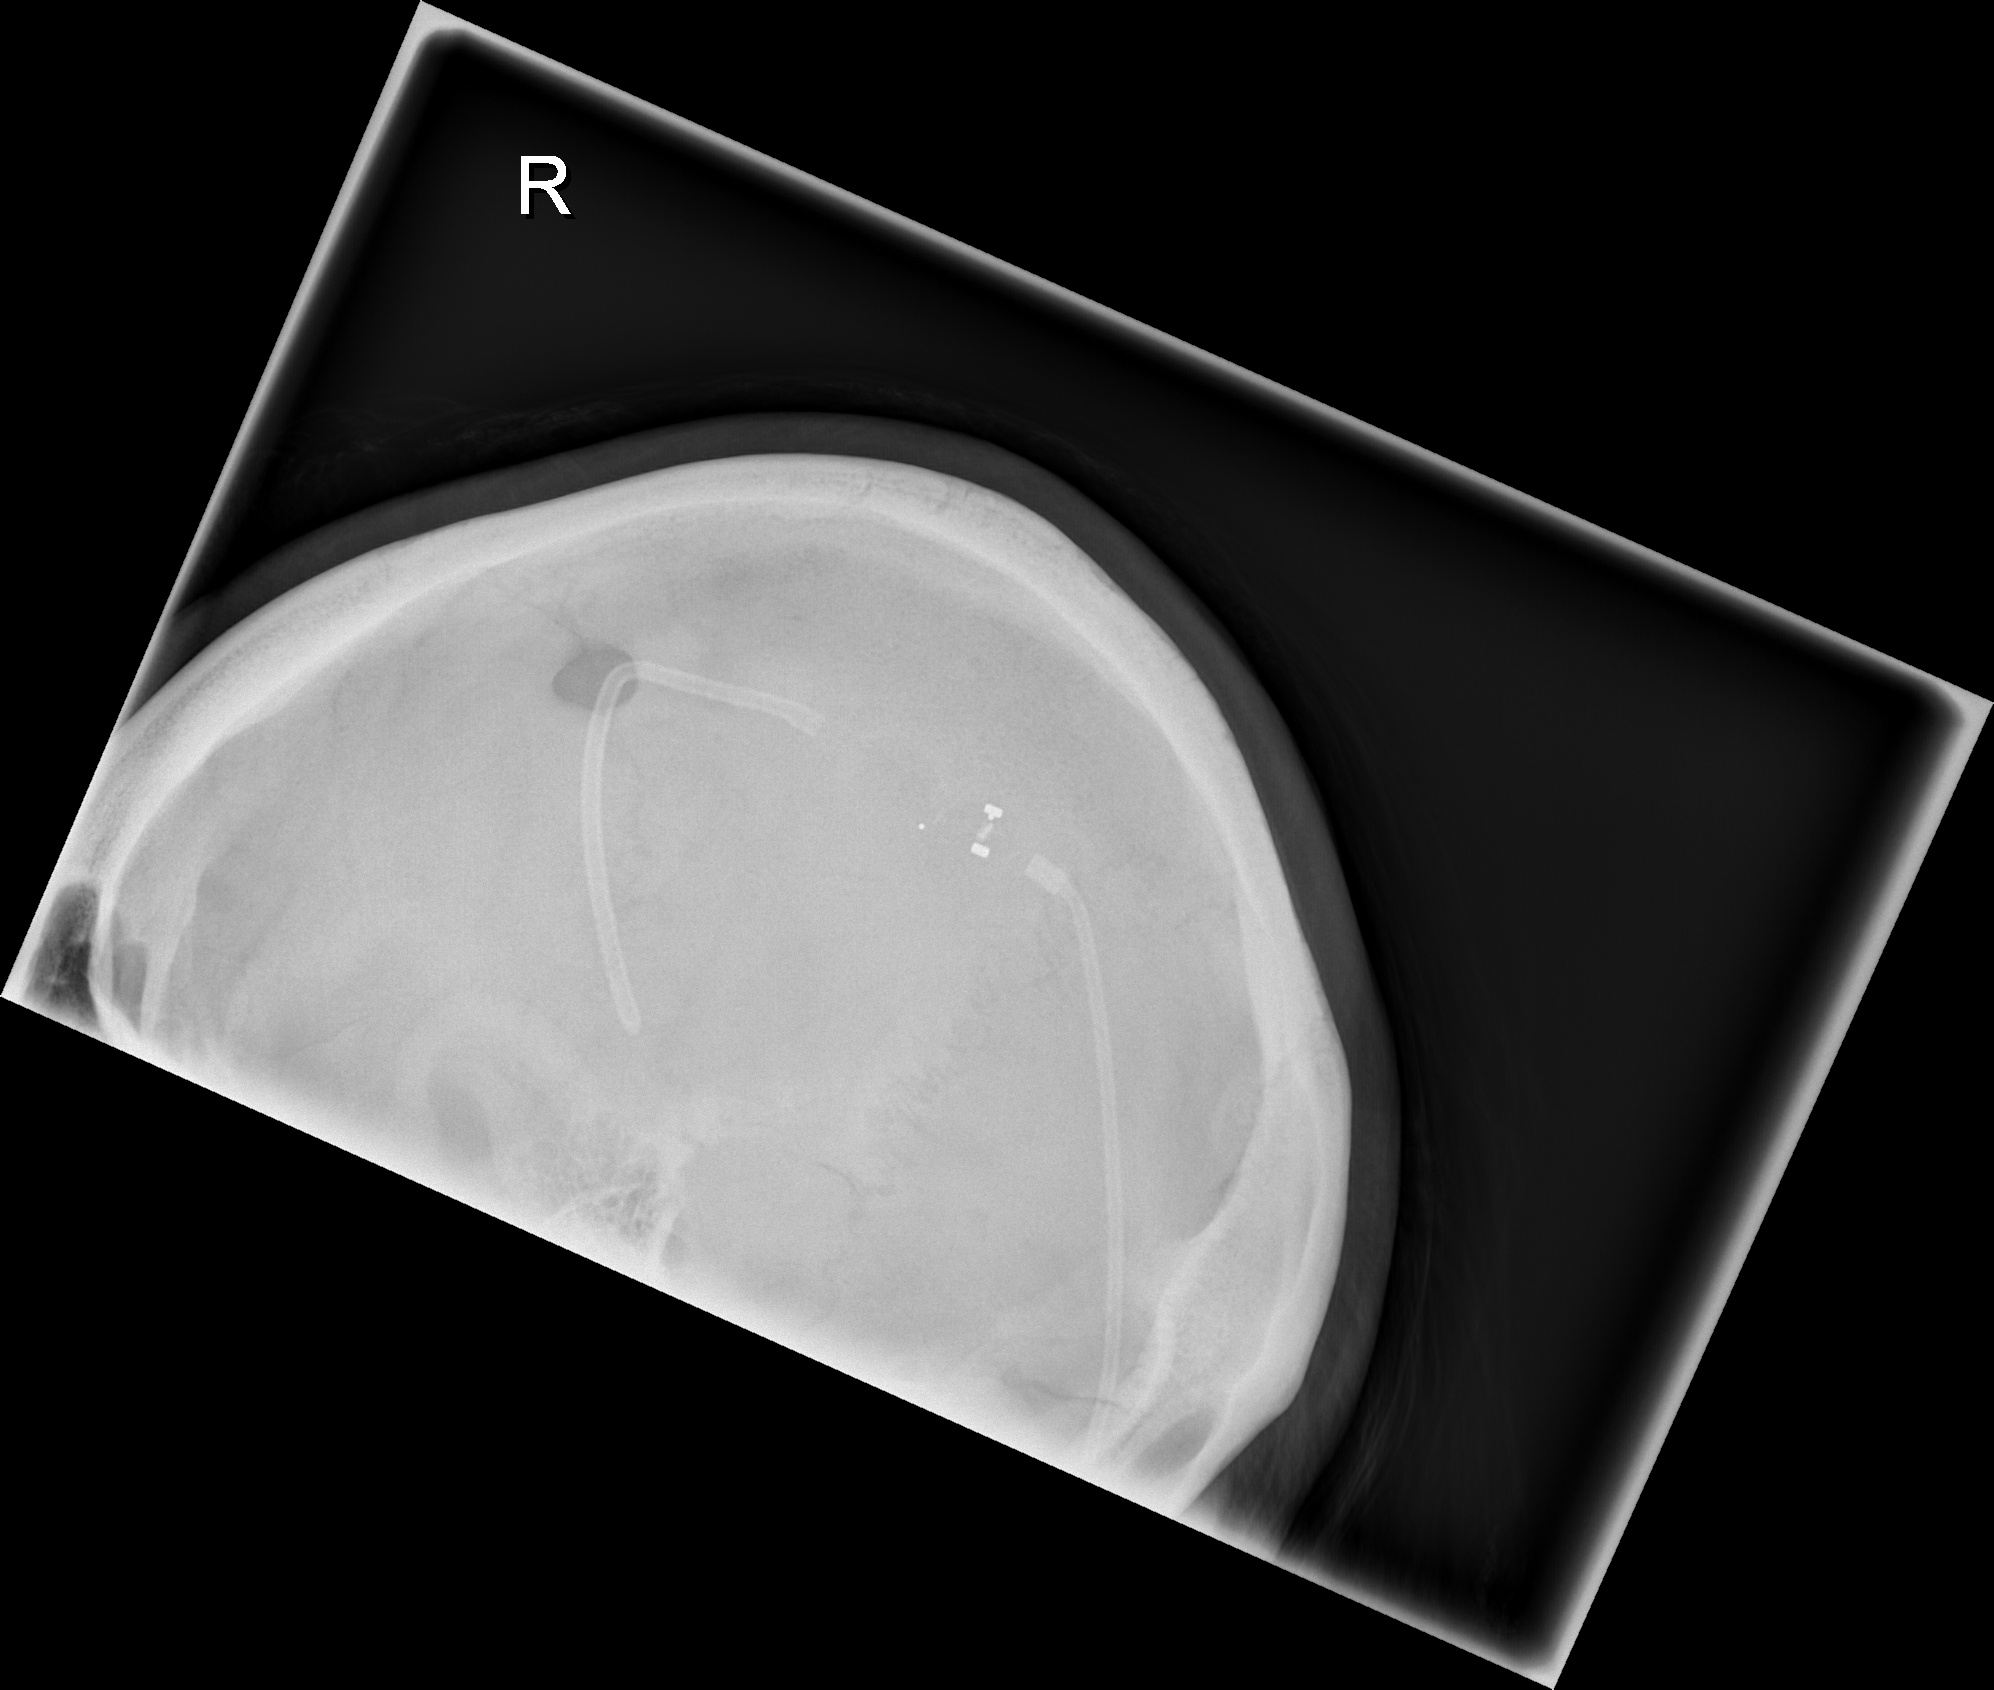Codman Certas: (897, 778, 1046, 882)
